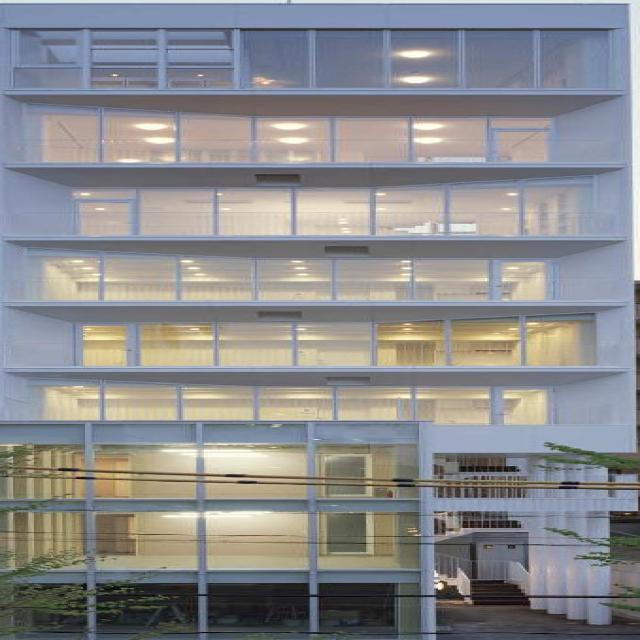door: (48, 580, 436, 638)
plant: (0, 545, 196, 609)
windows: (30, 29, 620, 88), (37, 103, 568, 163), (69, 175, 595, 234), (79, 313, 601, 368), (28, 249, 562, 302), (49, 376, 578, 424), (11, 509, 428, 566), (11, 444, 434, 499)
